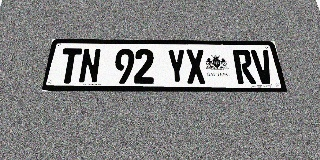2: (134, 49, 153, 84)
9: (114, 49, 135, 84)
N: (78, 48, 101, 84)
R: (232, 50, 256, 84)
T: (57, 48, 82, 84)
V: (250, 50, 276, 84)
X: (185, 49, 207, 84)
Y: (167, 49, 187, 84)
